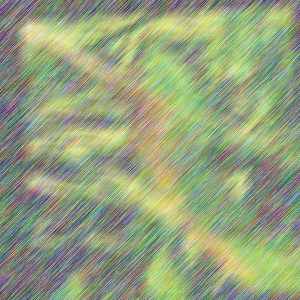Leaf_Blast: (131, 85, 218, 200)
